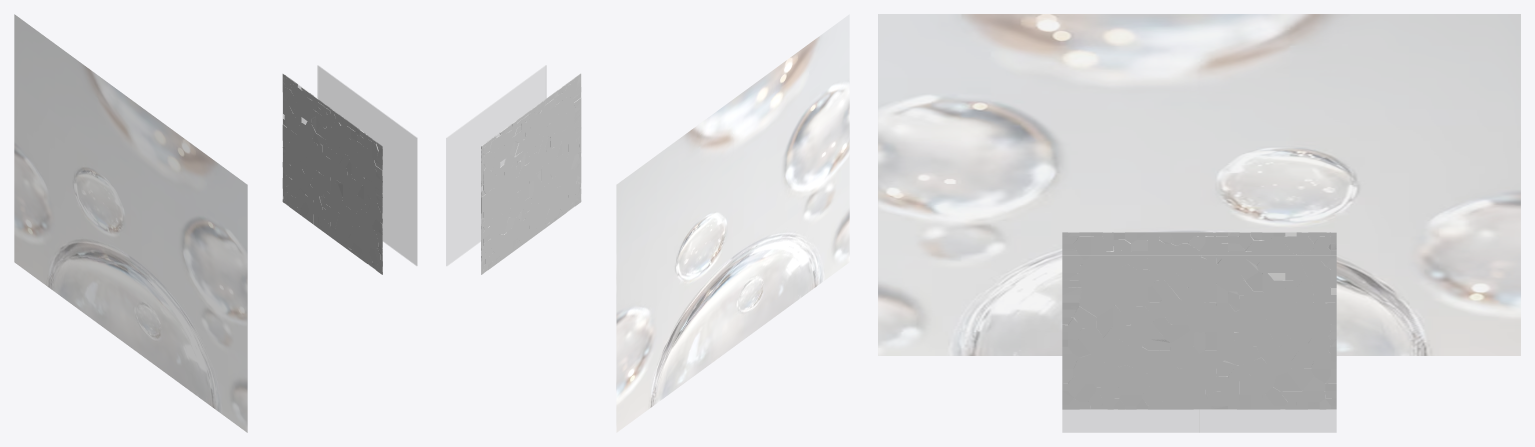
File: GLASS_PROJECTE.glb
The picture shows the model from 3 angles, left to right: view 1: azimuth 30°, elevation 25°; view 2: azimuth 150°, elevation 25°; view 3: azimuth 270°, elevation 25°; orthographic projection. The views are drawn at different scales.
Parts seen in each view (by area): view 1: Plane, Cube.002, Cube.003; view 2: Plane, Cube.002, Cube.003; view 3: Plane, Cube.003, Cube.002, Cube.002_cell.458, Cube.002_cell.149, Cube.002_cell.343, Cube.002_cell.024.
Part boxes in pixels (x1,y1,x2,y2): Plane: (14,14,247,432); Cube.002: (283,74,382,274); Cube.003: (317,65,417,265); Plane: (616,14,849,432); Cube.002: (481,73,580,274); Cube.003: (446,65,546,265); Plane: (878,14,1520,355); Cube.003: (1062,255,1336,432); Cube.002: (1062,232,1336,408); Cube.002_cell.458: (1097,340,1132,366); Cube.002_cell.149: (1079,291,1113,316); Cube.002_cell.343: (1074,354,1101,383); Cube.002_cell.024: (1079,259,1101,291).
Bounding box in the file's own units: 2.15 × 2.15 × 3.66.
Materials: 3 (1 with a texture image).
